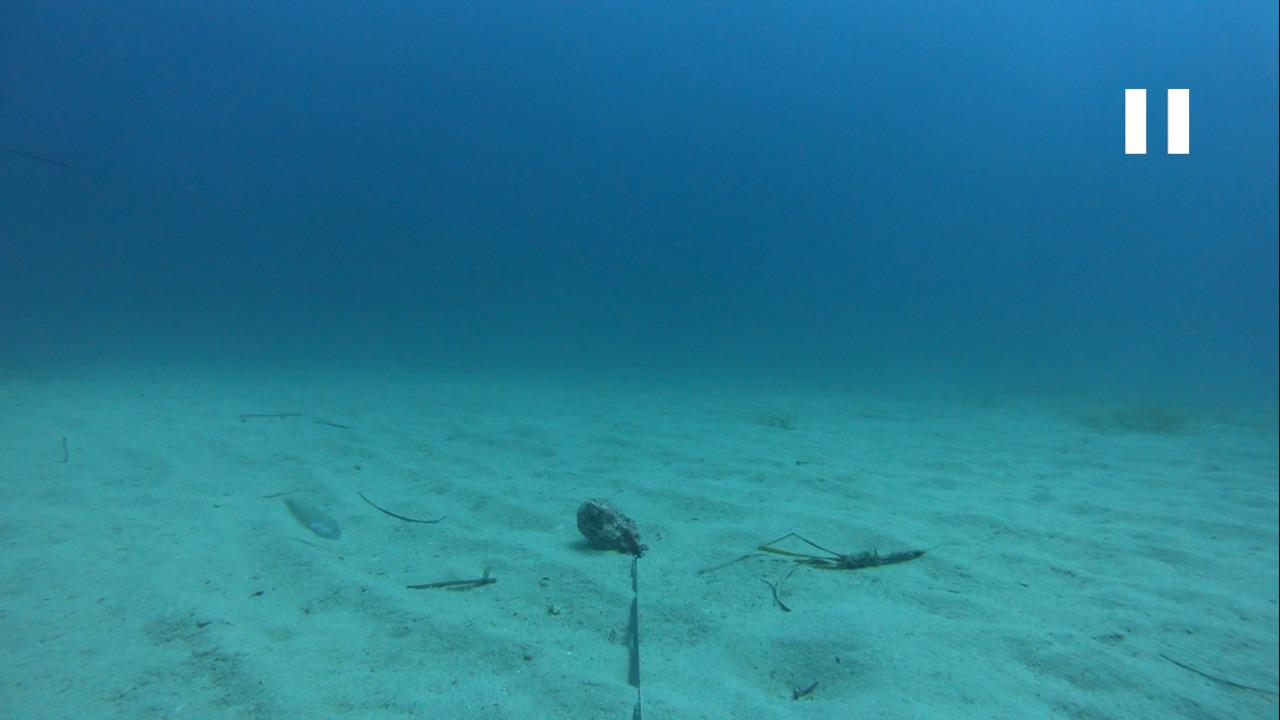myliobatis: (3, 131, 97, 184)
raor: (267, 487, 350, 545)
